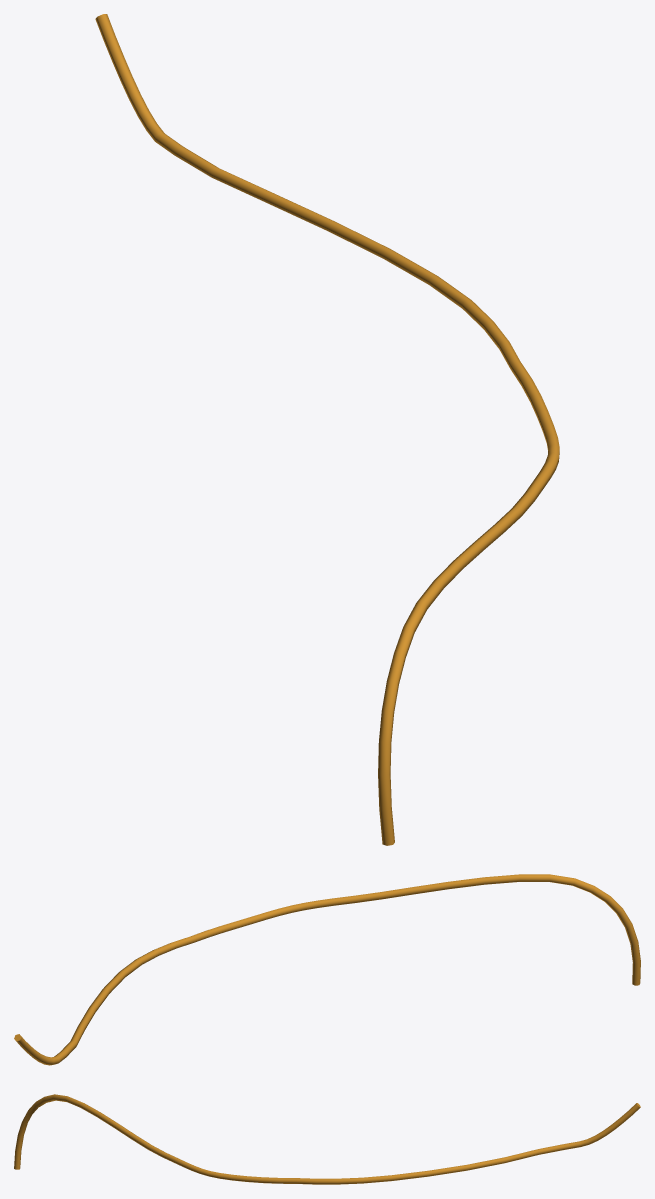
The model's file is SM_橡皮管_003.fbx.
3 views of the same model, one above another, from view 1: azimuth 30°, elevation 25°; view 2: azimuth 150°, elevation 25°; view 3: azimuth 270°, elevation 25° (orthographic). The views are drawn at different scales.
Parts seen in each view (by area): view 1: SM_橡皮管_003; view 2: SM_橡皮管_003; view 3: SM_橡皮管_003.
Boxes of the visible parts, bbox=[...] form: SM_橡皮管_003: bbox=[95, 14, 559, 845]; SM_橡皮管_003: bbox=[14, 874, 640, 1065]; SM_橡皮管_003: bbox=[14, 1094, 640, 1184].
Bounding box in the file's own units: 0.4674 × 0.3021 × 1.16.
